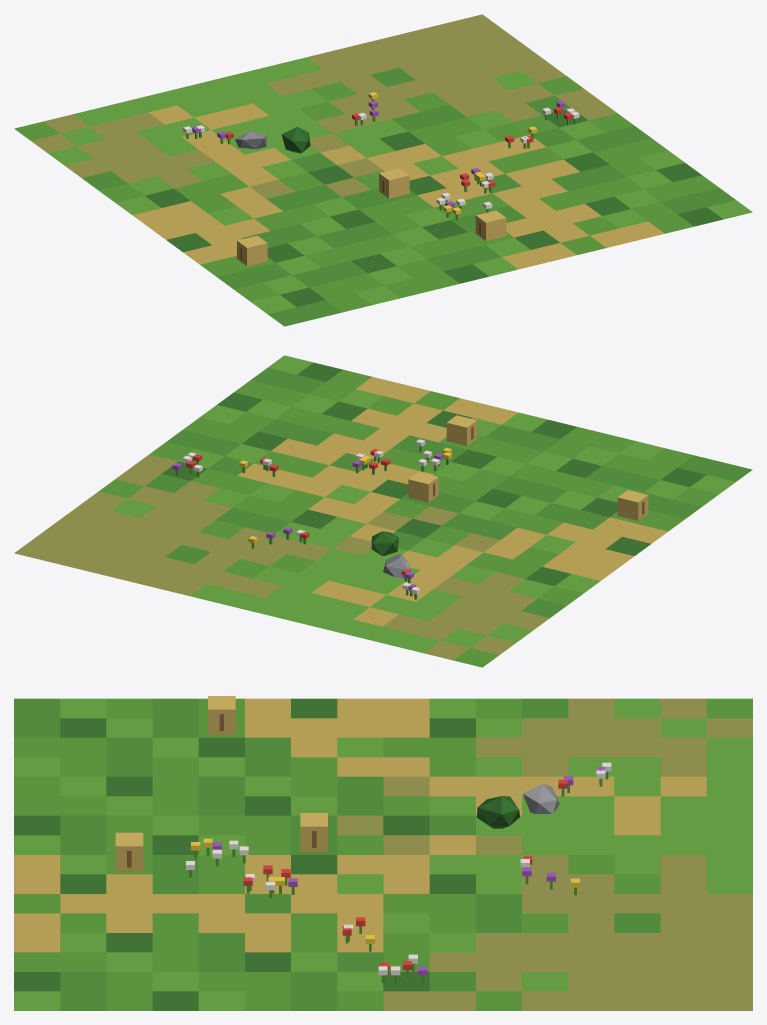
Rendered from chunk_10_7.glb.
3 renders of one model, top to bottom at view 1: azimuth 30°, elevation 25°; view 2: azimuth 150°, elevation 25°; view 3: azimuth 270°, elevation 25°, orthographic. The views are drawn at different scales.
Parts seen in each view (by area): view 1: chunk_10_7; view 2: chunk_10_7; view 3: chunk_10_7.
Part boxes in pixels (x1=…): chunk_10_7: x1=14, y1=14, x2=752, y2=326; chunk_10_7: x1=14, y1=355, x2=752, y2=667; chunk_10_7: x1=14, y1=696, x2=752, y2=1010.
Bounding box in the file's own units: 16 × 1.03 × 16.
